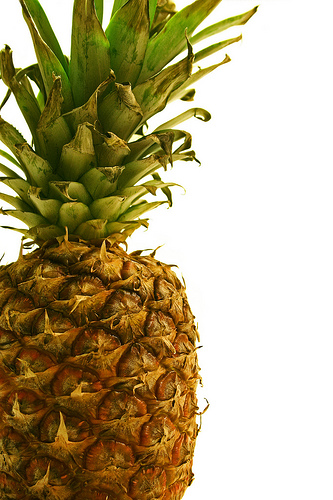pineapple: (0, 0, 261, 498)
